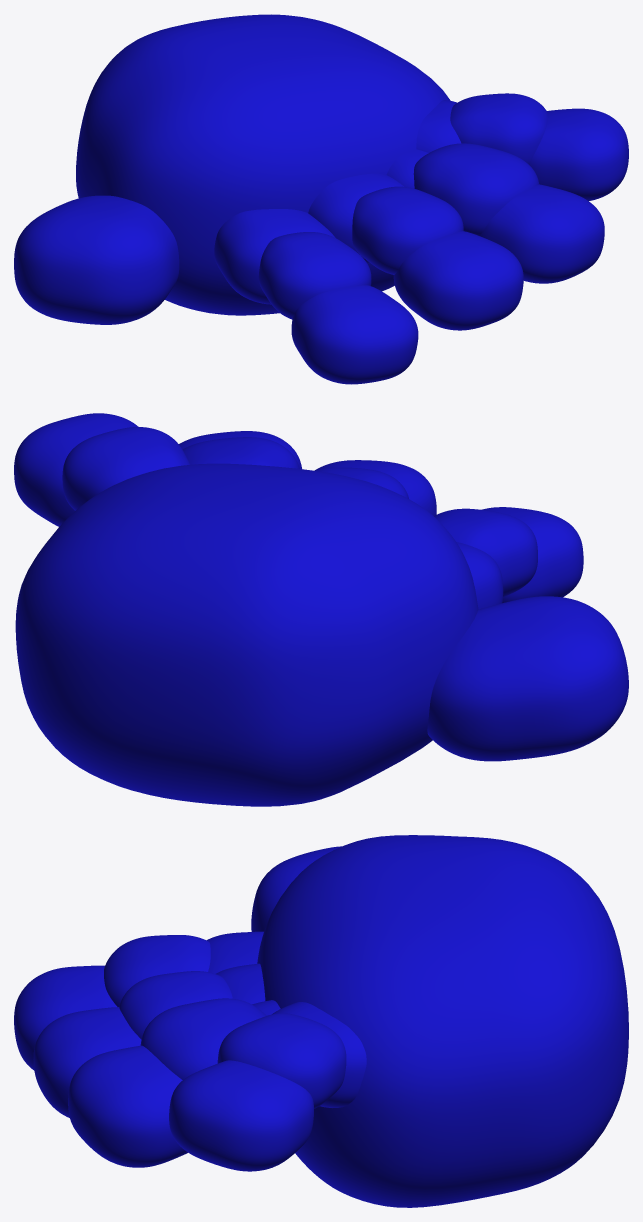
The model's file is piedDroitSingeBleu.gltf.
The picture shows the model from 3 angles, top to bottom: view 1: azimuth 30°, elevation 25°; view 2: azimuth 150°, elevation 25°; view 3: azimuth 270°, elevation 25°; orthographic projection. The views are drawn at different scales.
Parts seen in each view (by area): view 1: Roundcube.061; view 2: Roundcube.061; view 3: Roundcube.061.
Part boxes in pixels (left/top/right/bottom): Roundcube.061: left=14, top=14, right=628, bottom=384; Roundcube.061: left=14, top=413, right=628, bottom=806; Roundcube.061: left=14, top=835, right=628, bottom=1207.
Size of the model in its own units: 1.01 by 0.4389 by 0.8593.
